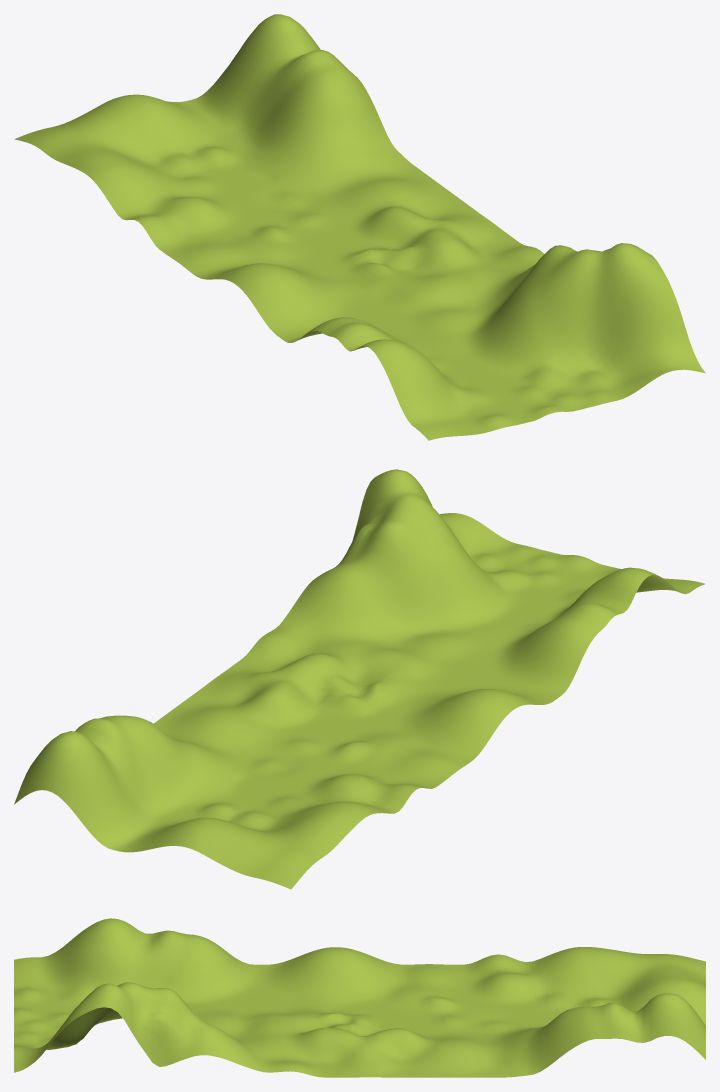
The model's file is gazontestTuto.fbx.
3 renders of one model, top to bottom at view 1: azimuth 30°, elevation 25°; view 2: azimuth 150°, elevation 25°; view 3: azimuth 270°, elevation 25°, orthographic. The views are drawn at different scales.
Parts seen in each view (by area): view 1: terrain; view 2: terrain; view 3: terrain.
Boxes of the visible parts, <box> form: terrain: <box>14,14,705,440</box>; terrain: <box>14,469,704,889</box>; terrain: <box>14,918,705,1077</box>.
Size of the model in its own units: 30.12 by 10.39 by 78.04.
